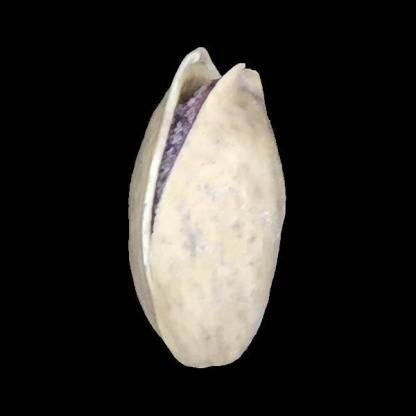pistachio: (123, 40, 294, 382)
